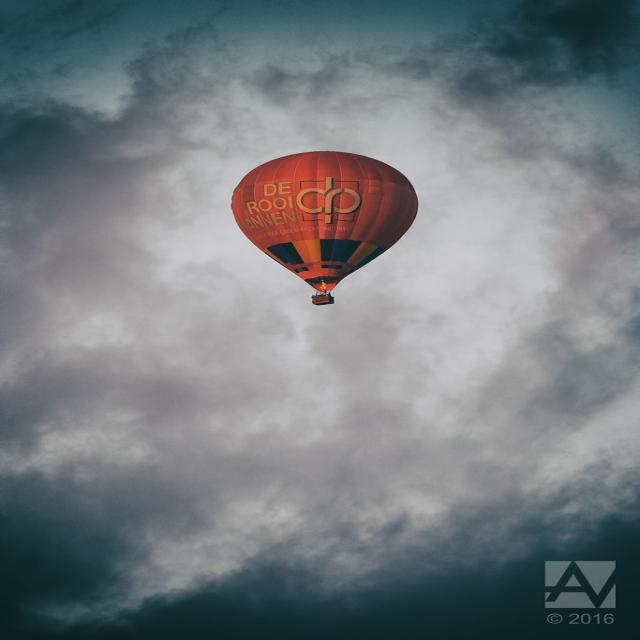balloon: (230, 151, 420, 307)
